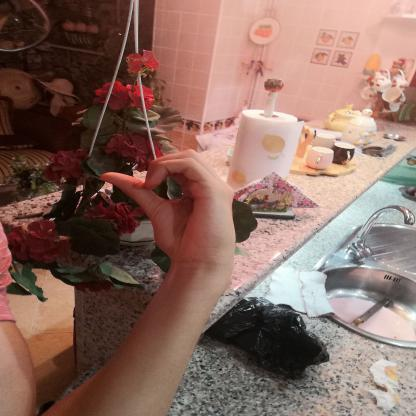WAW: (86, 140, 248, 276)
